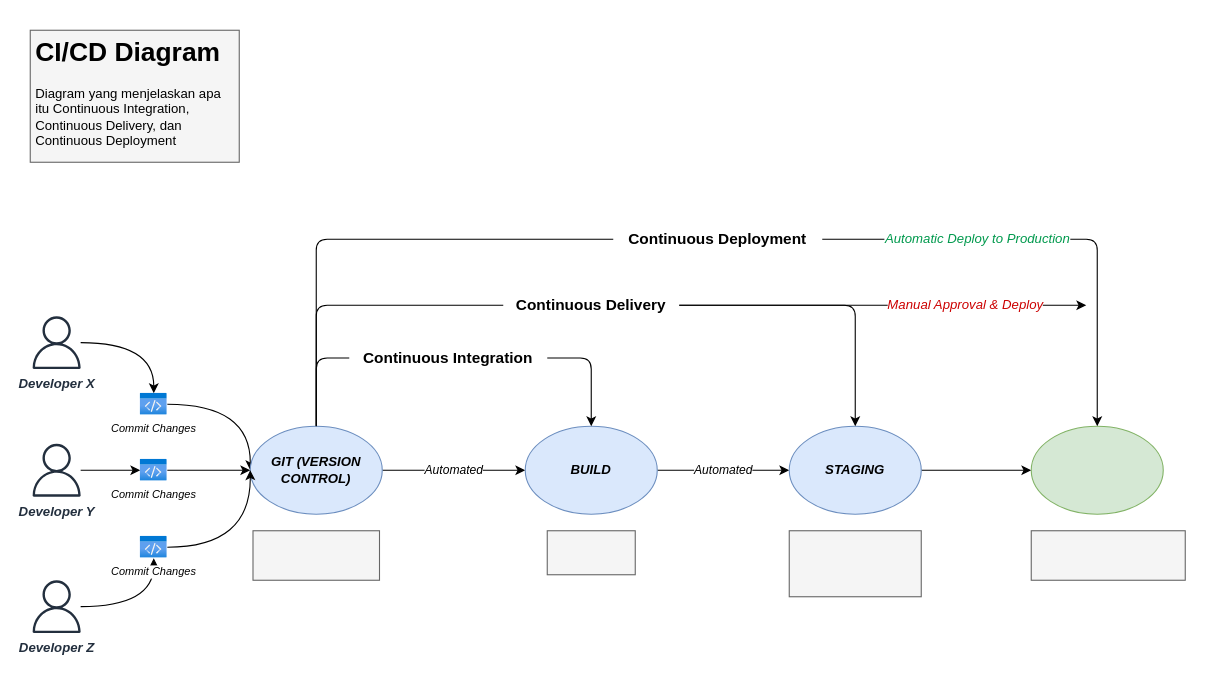
Image size: 1205x674. Some labels were removed from this diagram. Each missing label, with the box of its shape:
- deploy to test env - performance test - functional test: (788, 530, 921, 597)
deploy to production env for end-user access: (1030, 530, 1185, 580)
PRODUCTION: (1030, 425, 1163, 514)
push change to version control (git): (252, 530, 380, 580)
unit test & build: (546, 530, 635, 575)
